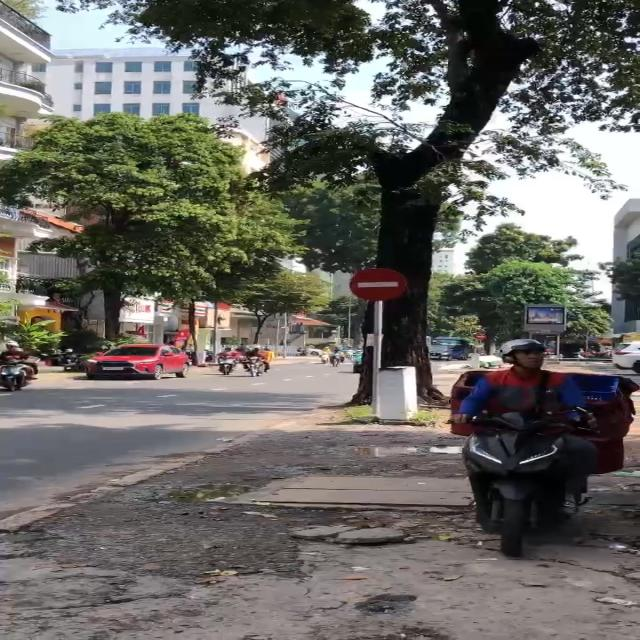Bien bao cam di nguoc chieu: (347, 266, 412, 304)
